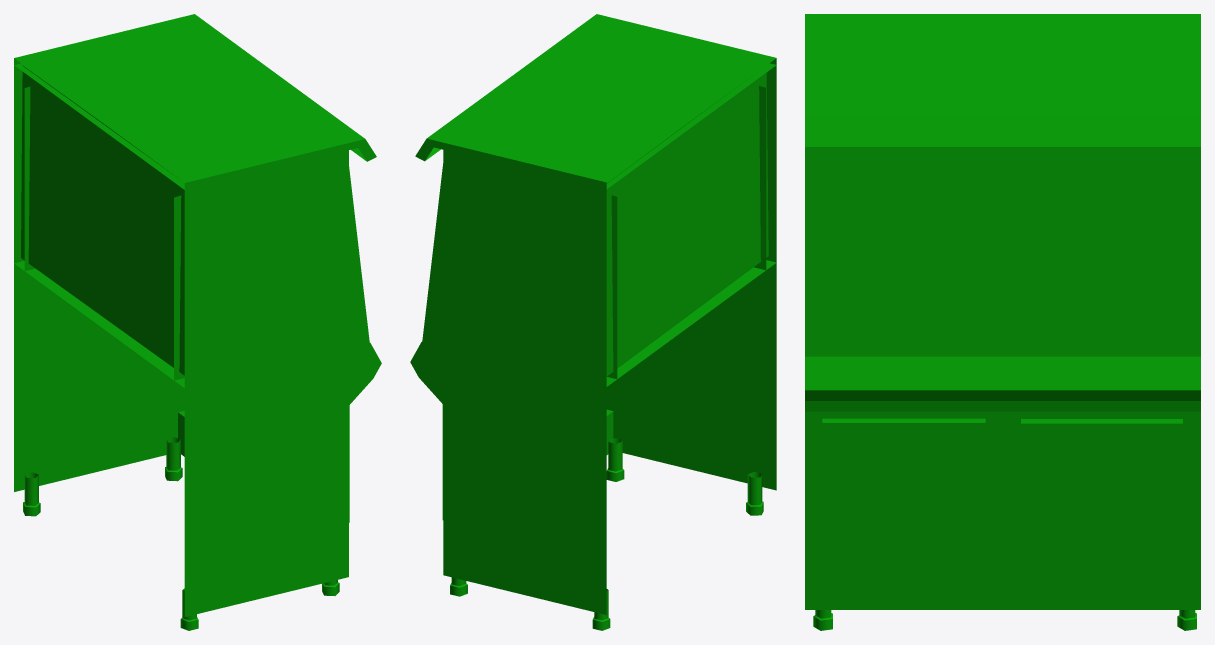
Rendered from Sushi.fbx.
3 renders of one model, left to right at view 1: azimuth 30°, elevation 25°; view 2: azimuth 150°, elevation 25°; view 3: azimuth 270°, elevation 25°, orthographic. The views are drawn at different scales.
Visible parts, largest first — view 1: pCube12, pCube12_Dup_2, Suchi, pCube12_Ext_1, pCube12_Ext_2, SmartCombine_40; view 2: pCube12, pCube12_Dup_2, Suchi, pCube12_Ext_1, pCube12_Ext_2, SmartCombine_40; view 3: pCube12_Ext_1, pCube12, pCube12_Dup_2, SmartCombine_10, SmartCombine_40.
Boxes of the visible parts, x1=… form: pCube12: x1=14, y1=261, x2=381, y2=616; pCube12_Dup_2: x1=14, y1=14, x2=376, y2=189; Suchi: x1=21, y1=65, x2=184, y2=375; pCube12_Ext_1: x1=203, y1=164, x2=369, y2=383; pCube12_Ext_2: x1=14, y1=63, x2=348, y2=388; SmartCombine_40: x1=23, y1=437, x2=339, y2=630; pCube12: x1=410, y1=260, x2=776, y2=614; pCube12_Dup_2: x1=415, y1=14, x2=776, y2=189; Suchi: x1=606, y1=73, x2=768, y2=376; pCube12_Ext_1: x1=422, y1=163, x2=587, y2=382; pCube12_Ext_2: x1=443, y1=63, x2=776, y2=386; SmartCombine_40: x1=450, y1=438, x2=763, y2=630; pCube12_Ext_1: x1=805, y1=147, x2=1200, y2=356; pCube12: x1=805, y1=356, x2=1200, y2=609; pCube12_Dup_2: x1=805, y1=14, x2=1200, y2=146; SmartCombine_10: x1=822, y1=418, x2=1182, y2=560; SmartCombine_40: x1=813, y1=610, x2=1196, y2=630.
Size of the model in its own units: 1 by 2.2 by 1.5.
